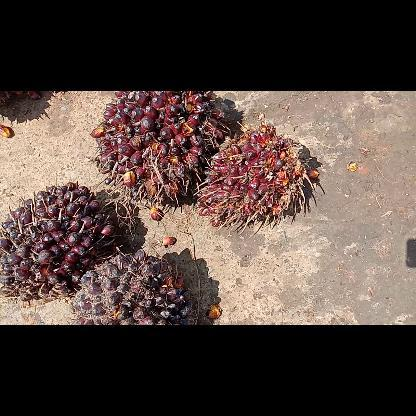Kurang masak: (91, 91, 230, 230), (193, 120, 319, 234), (0, 180, 119, 300), (70, 246, 194, 324)
